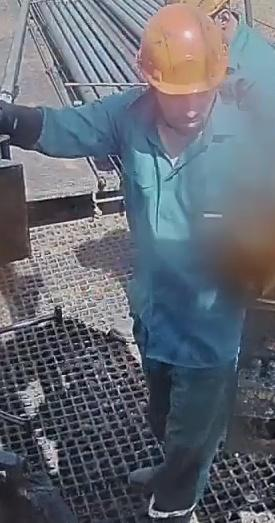gloves: (0, 98, 43, 150)
helmet: (136, 2, 229, 95)
vest: (118, 93, 261, 367)
